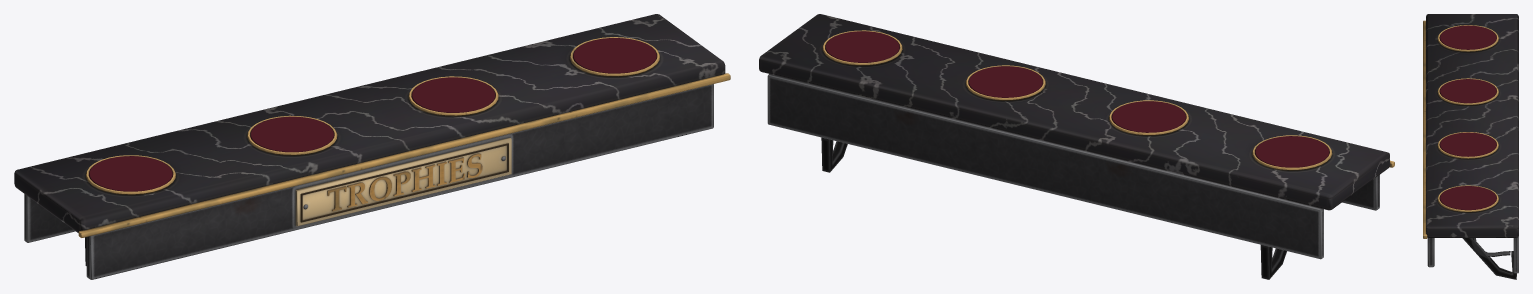
The model's file is TrophyShelf.fbx.
3 renders of one model, left to right at view 1: azimuth 30°, elevation 25°; view 2: azimuth 150°, elevation 25°; view 3: azimuth 270°, elevation 25°, orthographic. The views are drawn at different scales.
Parts seen in each view (by area): view 1: TrophyShelf; view 2: TrophyShelf; view 3: TrophyShelf.
Boxes of the visible parts, box(x1,y1,x2,y2) form: TrophyShelf: box(14, 14, 730, 279); TrophyShelf: box(759, 14, 1394, 279); TrophyShelf: box(1423, 14, 1518, 279).
Bounding box in the file's own units: 604 × 103 × 114.
